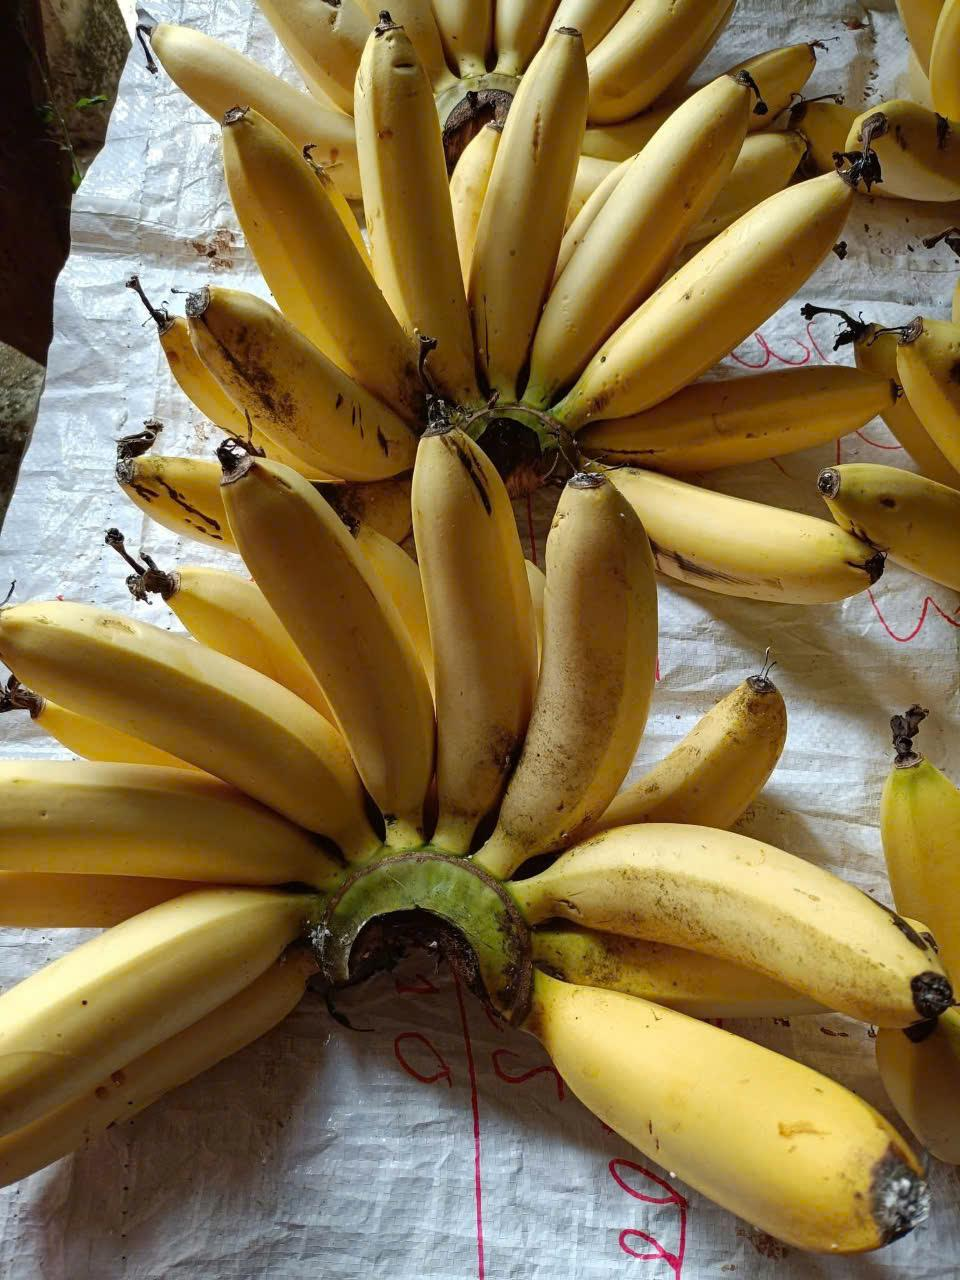banana: (110, 67, 897, 605), (7, 547, 377, 1173), (482, 820, 960, 1240)
